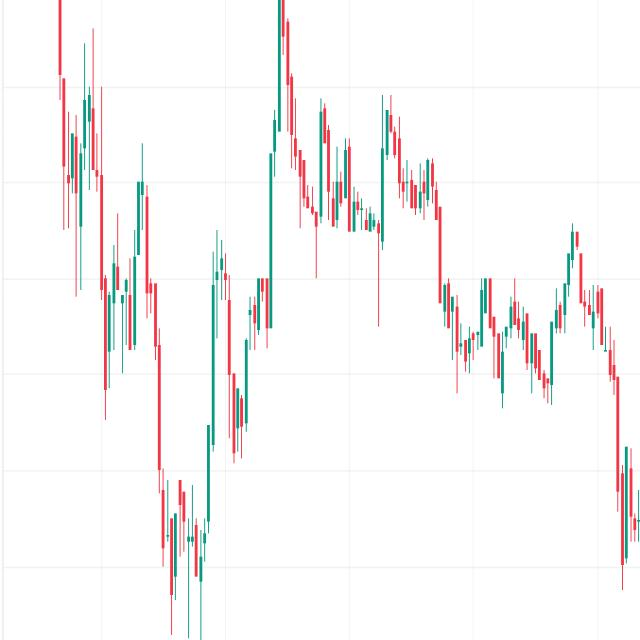Triple-Bottom: (435, 265, 566, 418)
